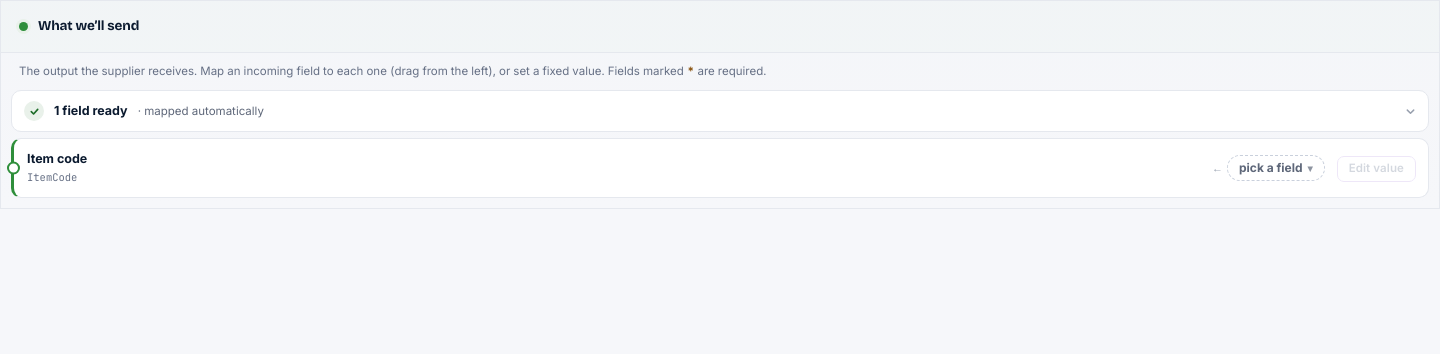
Test case: OutgoingPane — a saved-mapping suggestion › names the suggestion 'Saved mapping' where it surfaces
Click the button "pick a field ▾" at (1276, 168), box [1227,155,1325,181]
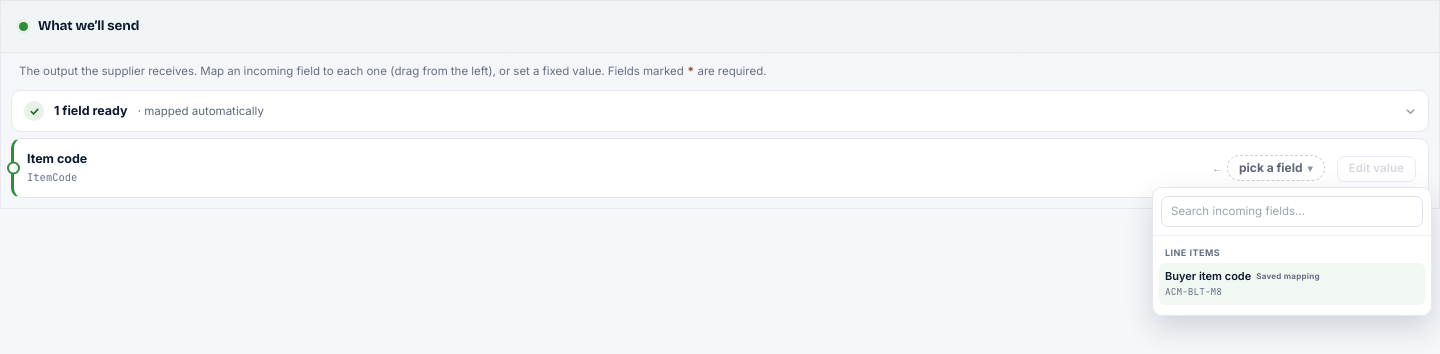
Now the text "Saved mapping" is shown, box [1256,270,1320,282]
